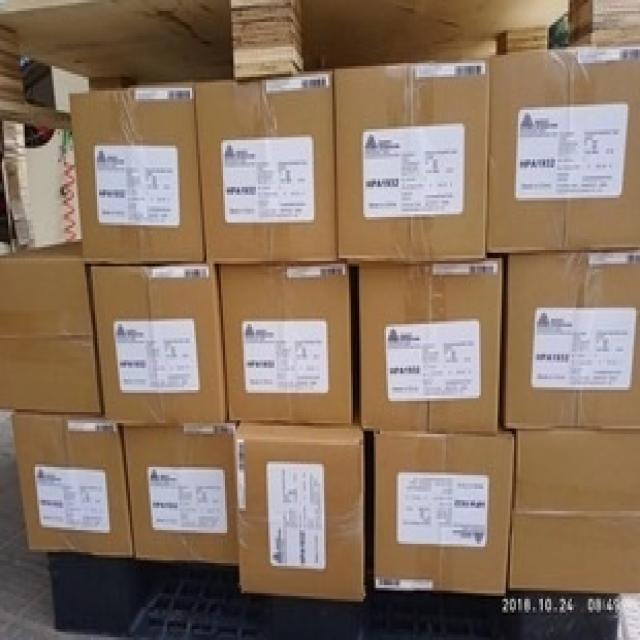box: (333, 58, 487, 264), (486, 47, 638, 253), (197, 74, 337, 265), (357, 258, 504, 432), (499, 250, 638, 431), (234, 421, 372, 599), (69, 83, 204, 263), (373, 431, 514, 593), (90, 263, 228, 420), (221, 264, 354, 425), (509, 428, 638, 593), (0, 239, 101, 415), (14, 412, 134, 557), (124, 421, 240, 561)
